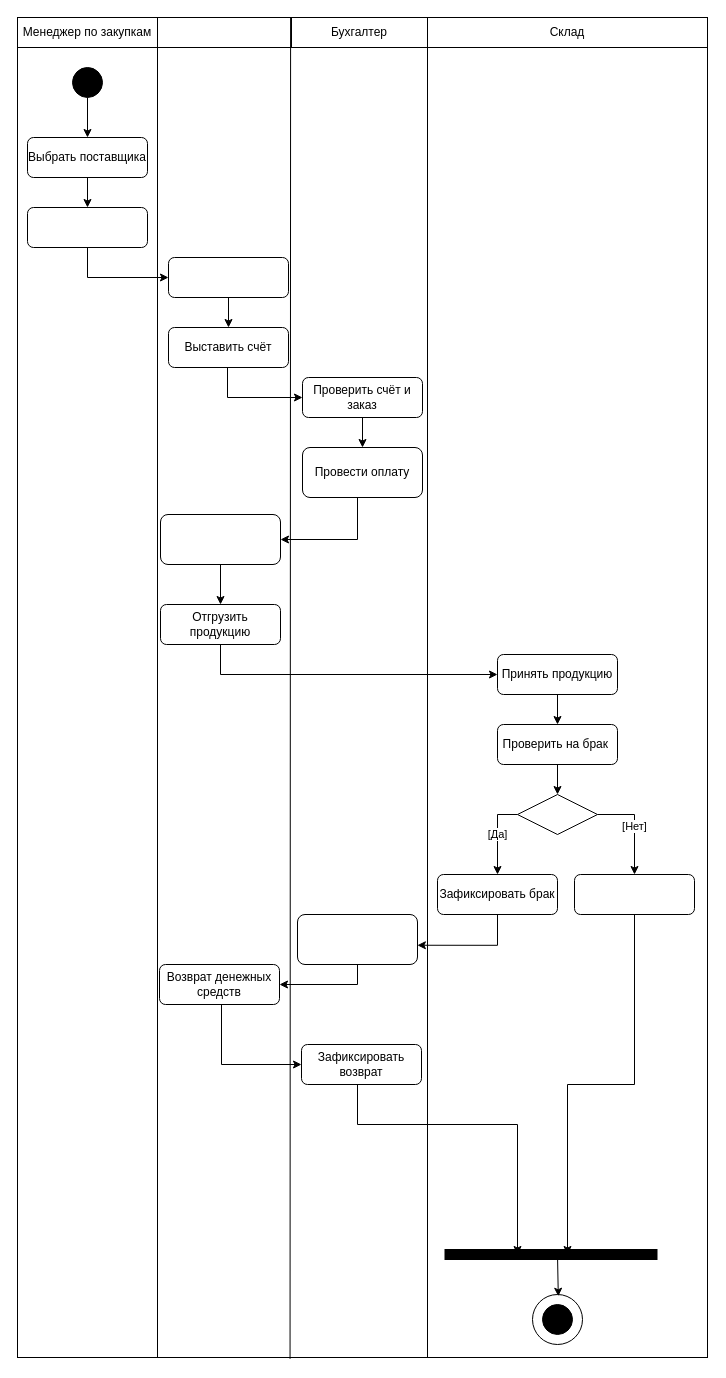
The diagram is 726 pixels wide and 1378 high, and some of its shapes have lost their labels. Each missing label, with the centre of its shape:
Оформить акт приёмки: [634,894]
Оформить требование о возврате: [357,939]
Подтвердить заказ: [228,277]
Получить уведомление об оплате: [220,539]
Поставщик: [224,32]
Сформировать заказ: [87,227]
